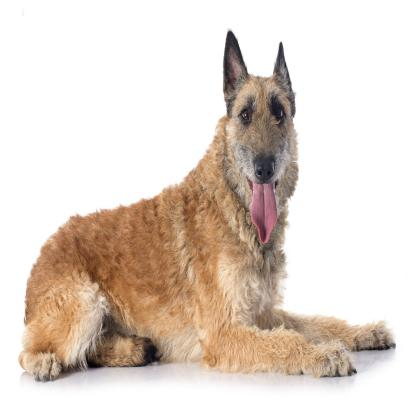Belgian Laekenois: (21, 24, 393, 377)
